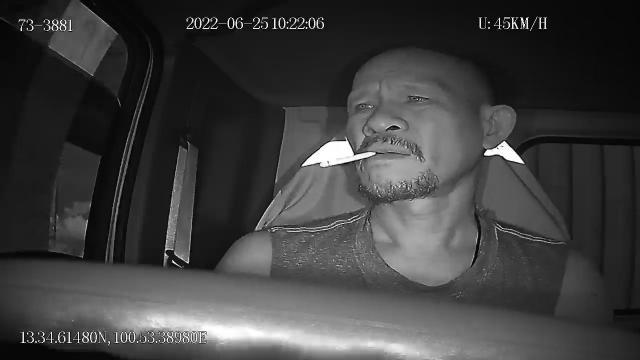SafeDriving: (397, 84, 440, 112), (347, 91, 382, 119)
Smoking: (316, 150, 376, 168)
